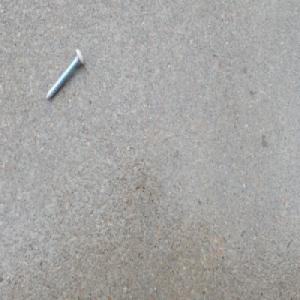Nail: (43, 46, 84, 103)
